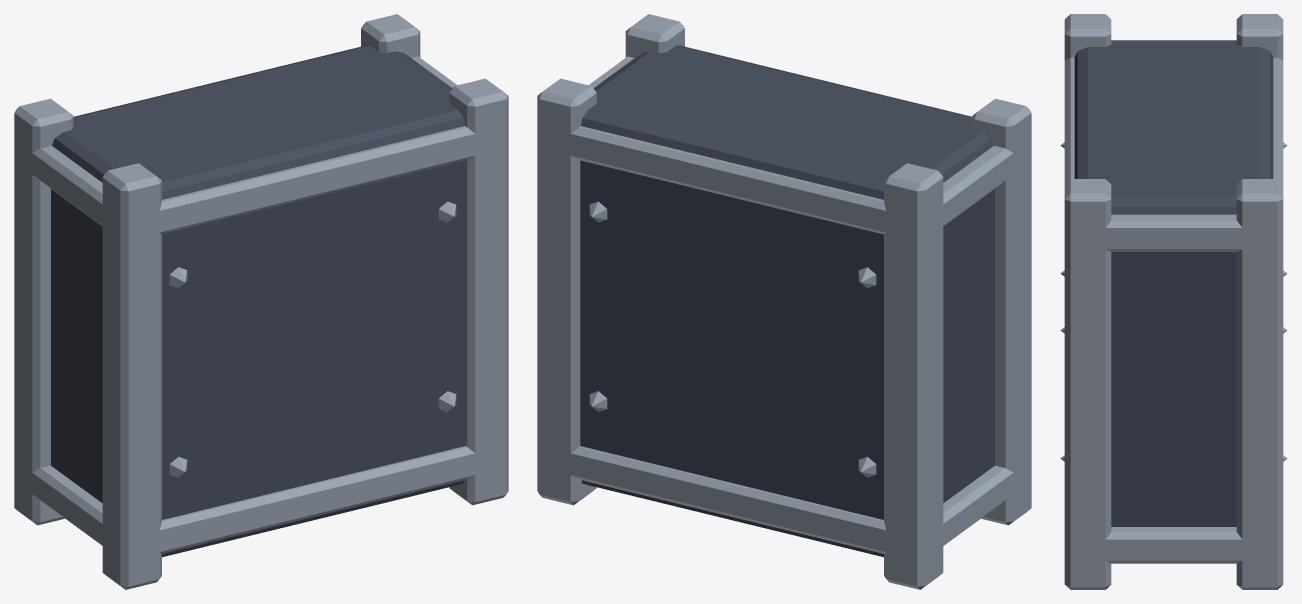
File: pkg_iron_2x2.glb
3 views of the same model, side by side, from view 1: azimuth 30°, elevation 25°; view 2: azimuth 150°, elevation 25°; view 3: azimuth 270°, elevation 25° (orthographic). The views are drawn at different scales.
Visible parts, largest first — view 1: PkgIron2x2; view 2: PkgIron2x2; view 3: PkgIron2x2.
Part boxes in pixels (x1=…): PkgIron2x2: x1=14, y1=14, x2=508, y2=589; PkgIron2x2: x1=537, y1=14, x2=1031, y2=589; PkgIron2x2: x1=1060, y1=14, x2=1287, y2=589.
Bounding box in the file's own units: 0.15 × 0.15 × 0.078.
